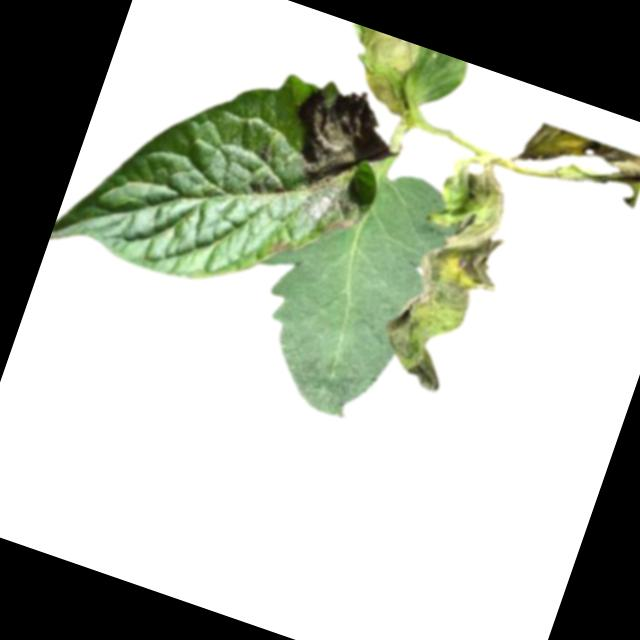Late_blight: (371, 152, 534, 401), (262, 74, 409, 243), (516, 118, 640, 207), (325, 22, 431, 119), (269, 230, 298, 257)
healthy: (240, 144, 465, 432)
